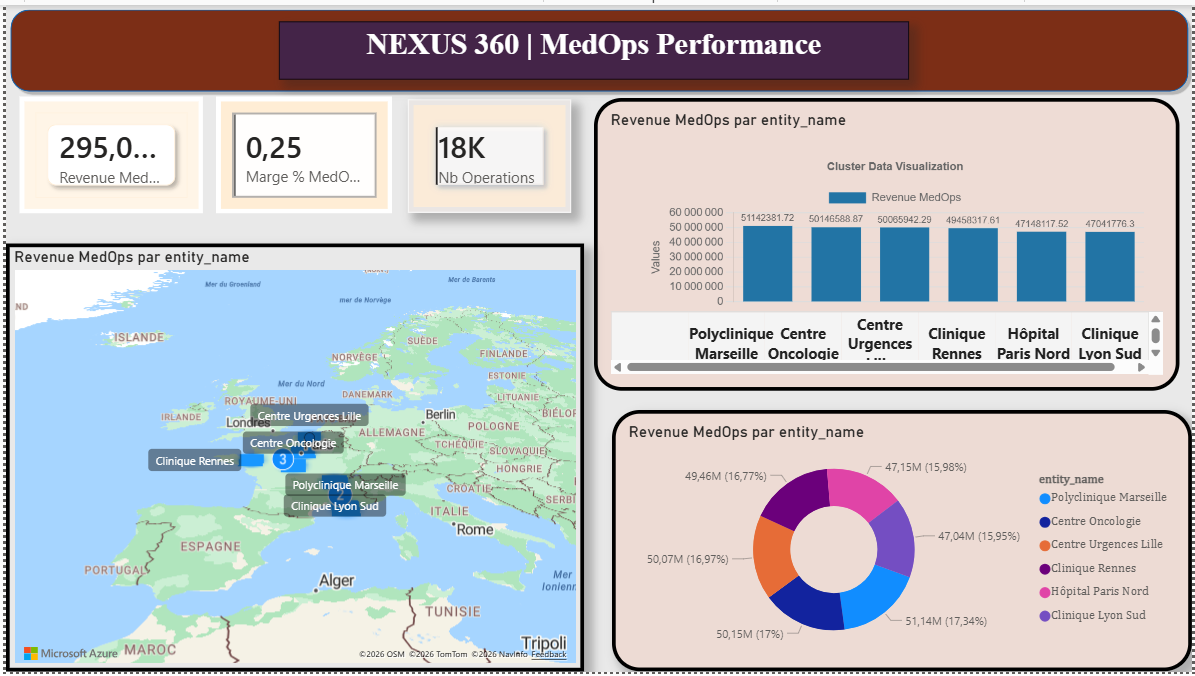

The page's visual inventory and layout, read from the dashboard file:
{"tool":"powerbi","page":{"name":"MedOps","canvas":[1280,720],"ordinal":3},"visuals":[{"type":"shape","box":[0,0,1281.3,98.3],"z":0},{"type":"textbox","box":[294.8,17,680.3,62.4],"z":1000},{"type":"cardVisual","fields":{"Data":["_Mesures .Revenue MedOps"]},"box":[14,98,198,126],"z":2000},{"type":"cardVisual","fields":{"Data":["_Mesures .Marge % MedOps"]},"box":[226,98,190,126],"z":3000},{"type":"cardVisual","fields":{"Data":["_Mesures .Nb Operations"]},"box":[434,102,176,122],"z":4000},{"type":"clusteredChart","fields":{"category":["Dim_Entity.entity_name"],"Y-axis1":["_Mesures .Revenue MedOps"]},"box":[634,100,632,316],"z":5000},{"type":"azureMap","fields":{"Category":["Dim_Entity.entity_name"],"Y":["_Mesures .Revenue MedOps"]},"box":[0,258,624,462],"z":6000},{"type":"donutChart","fields":{"Category":["Dim_Entity.entity_name"],"Y":["_Mesures .Revenue MedOps"]},"box":[640,438,626,282],"z":7000}]}

Visuals, with their boxes in screenshot pixels (x1, y1, x2, y2), scaled from the page's 1280x720 canvas onto the 1195x676 screenshot:
shape: 0:0:1194:92
textbox: 275:16:910:75
cardVisual - _Mesures .Revenue MedOps: 13:92:198:210
cardVisual - _Mesures .Marge % MedOps: 211:92:388:210
cardVisual - _Mesures .Nb Operations: 405:96:569:210
clusteredChart - Dim_Entity.entity_name x _Mesures .Revenue MedOps: 592:94:1182:391
azureMap - Dim_Entity.entity_name x _Mesures .Revenue MedOps: 0:242:583:675
donutChart - Dim_Entity.entity_name x _Mesures .Revenue MedOps: 598:411:1182:675
